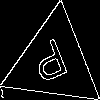P: (29, 37, 74, 93)
